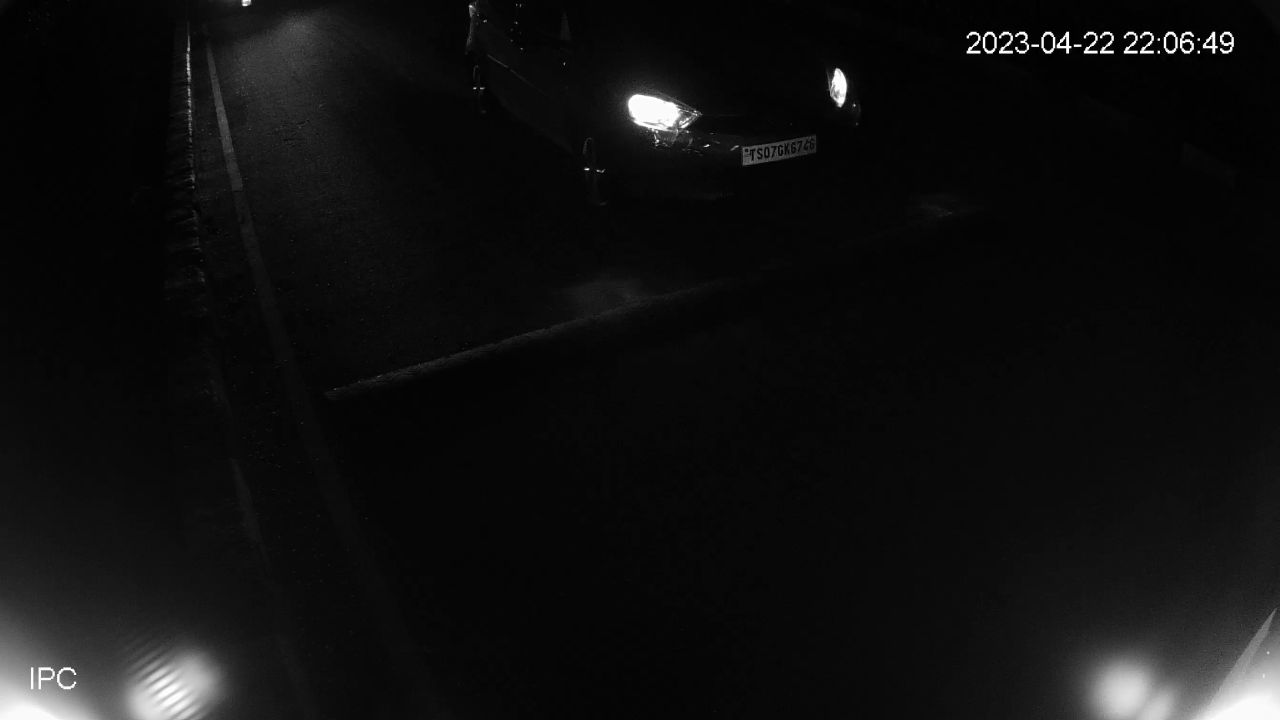license_plate: (738, 129, 821, 173)
